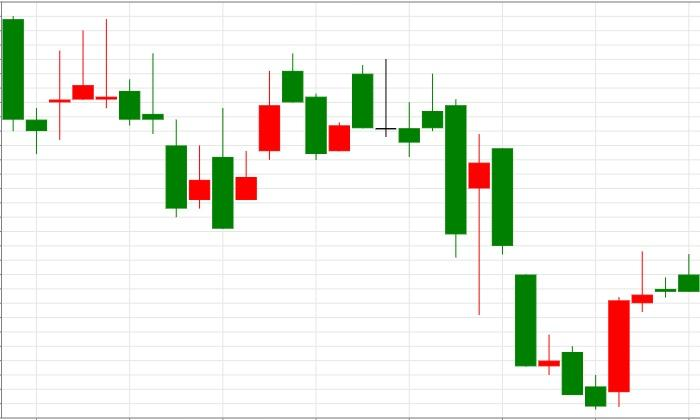inverse_hammer_rise: (72, 19, 210, 217)
